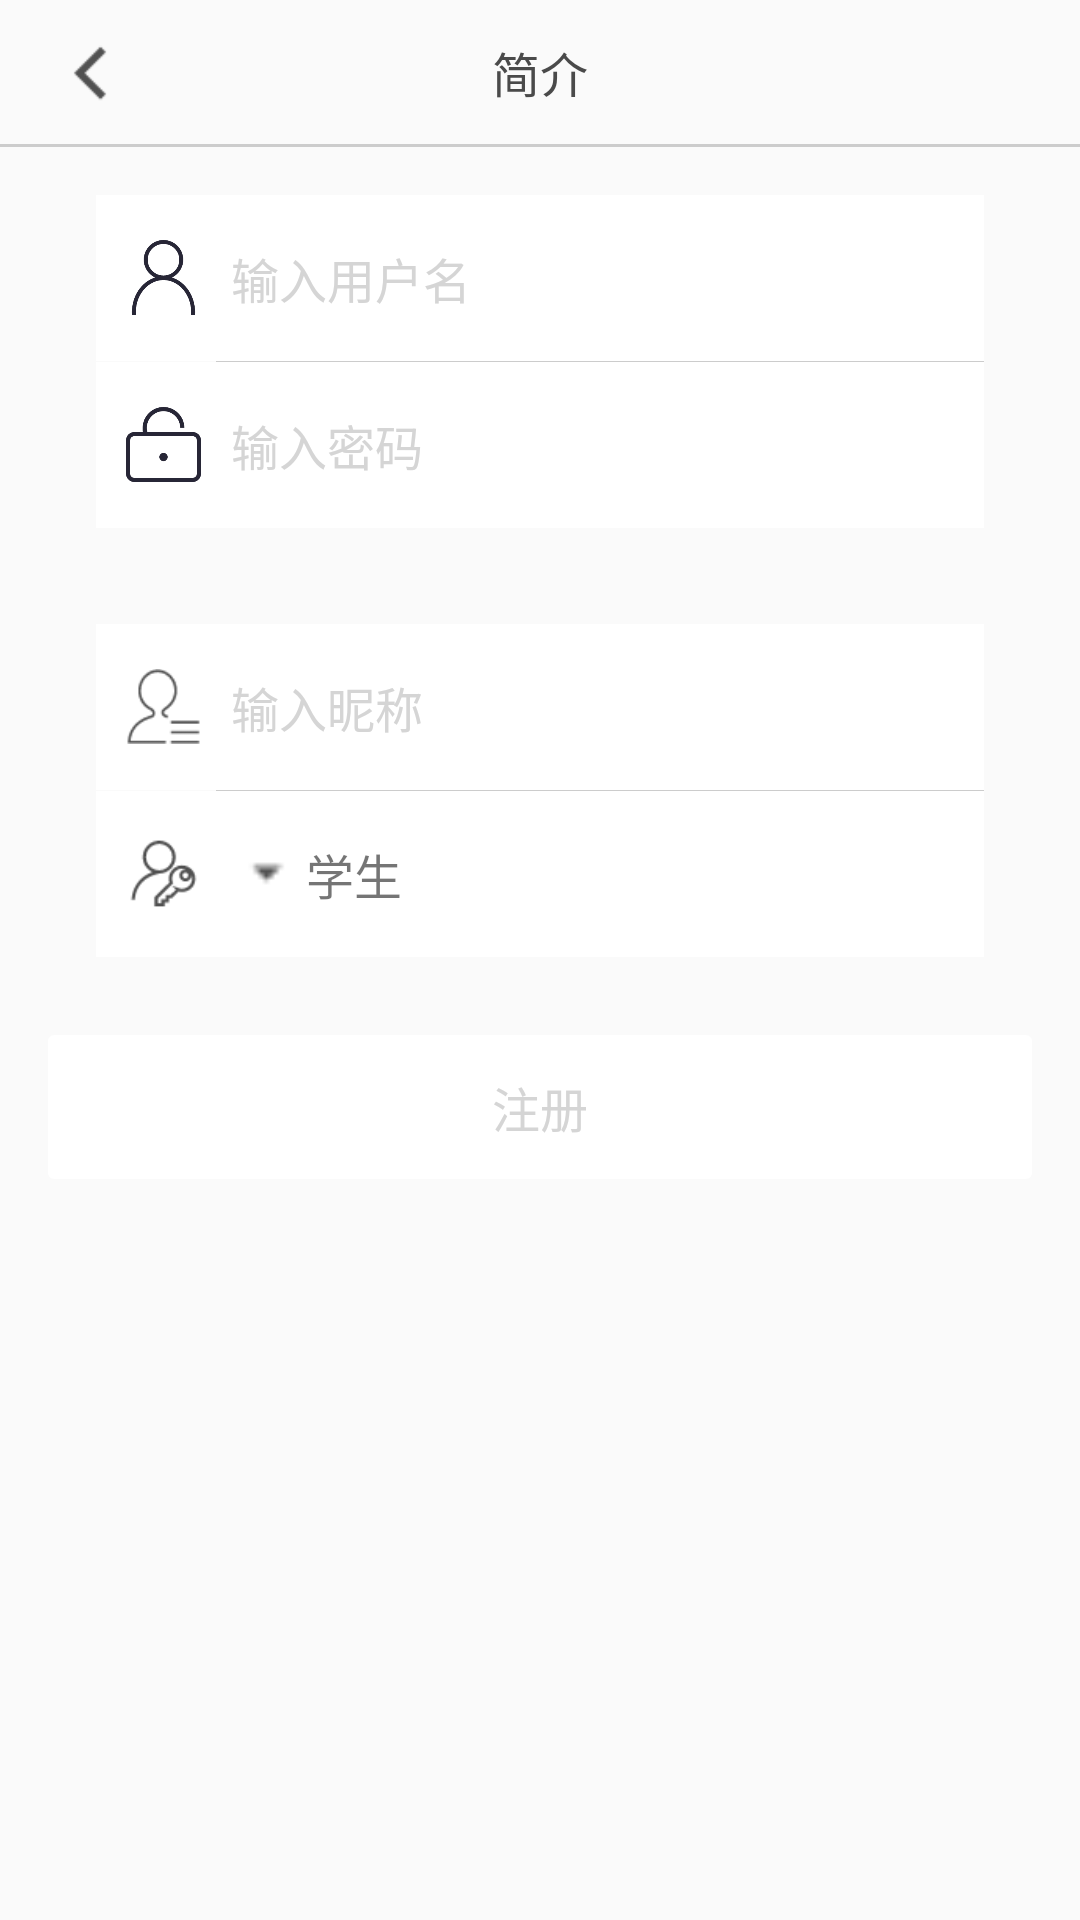

Named icons in this screenshot (1080×1920) and their centers, [x,y]:
arrow down: [267,872]
back: [90,73]
user name: [163,277]
user role: [163,873]
